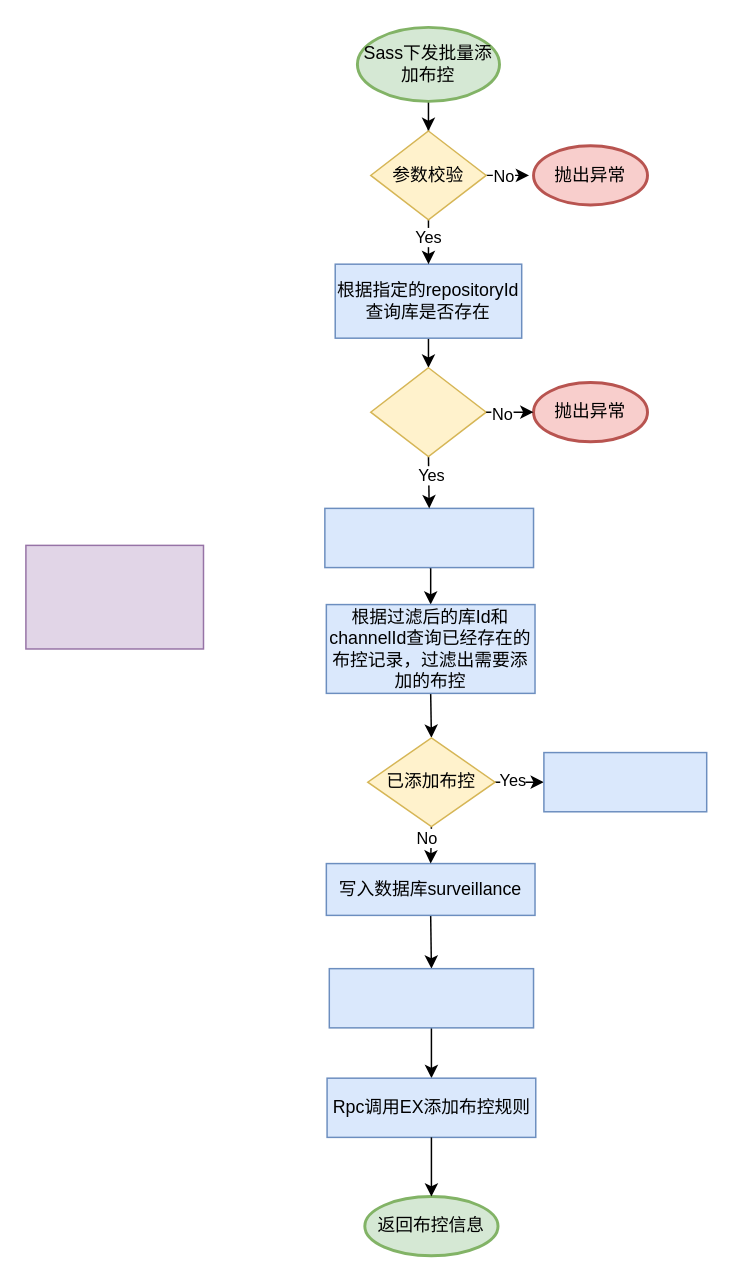
Some shapes in this 733 by 1282 pixel diagram are drawn without their labels. Each missing label, with the centre of its shape:
删除告警记录缓存: point (431, 997)
库存在: point (427, 411)
每一步校验不通过都会抛出错误；涉及到数据库写入的操作如果出现异常则回滚: point (114, 596)
组装布控ID参数: point (624, 781)
过滤出不是静态库的库Id: point (428, 537)
